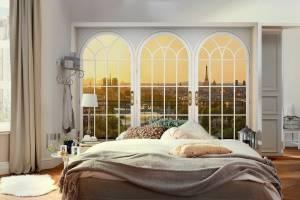window: (70, 23, 257, 148)
